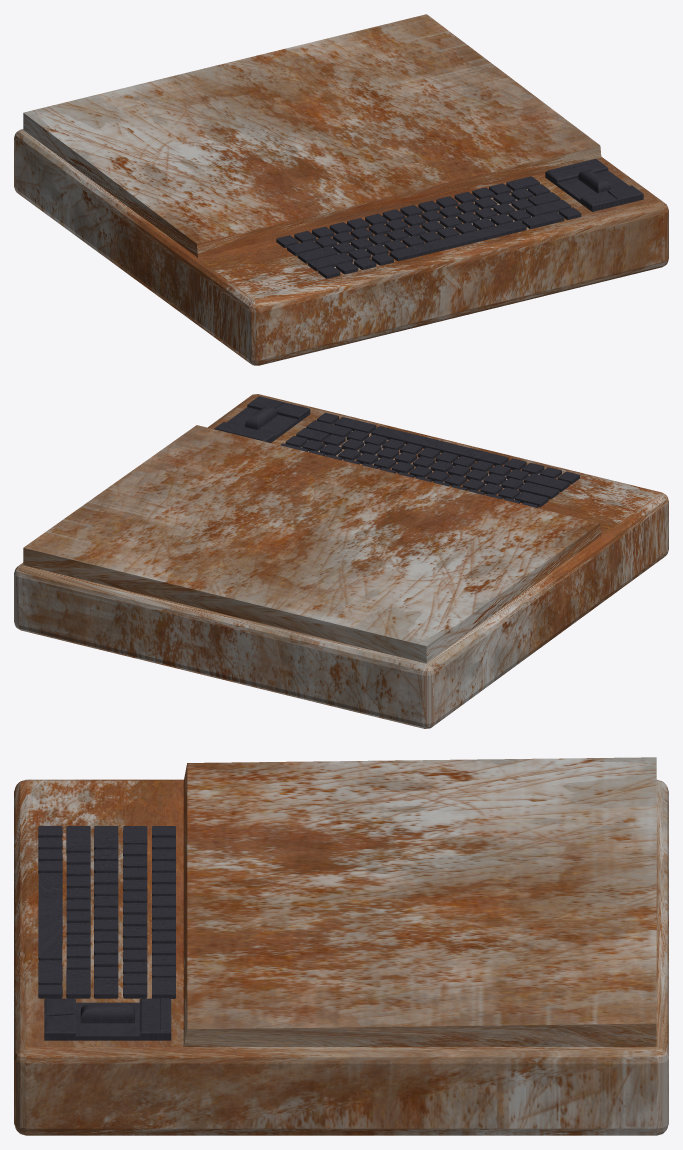
Rendered from Console-table.glb.
3 views of the same model, one above another, from view 1: azimuth 30°, elevation 25°; view 2: azimuth 150°, elevation 25°; view 3: azimuth 270°, elevation 25° (orthographic). The views are drawn at different scales.
Parts seen in each view (by area): view 1: Plane, Curve.059, Plane.001; view 2: Plane, Curve.059, Plane.001; view 3: Plane, Curve.059, Plane.001.
Boxes of the visible parts, <box> form: Plane: <box>14,14,668,365</box>; Curve.059: <box>276,176,581,278</box>; Plane.001: <box>545,159,643,211</box>; Plane: <box>14,394,668,728</box>; Curve.059: <box>280,413,579,507</box>; Plane.001: <box>214,396,310,442</box>; Plane: <box>14,757,668,1135</box>; Curve.059: <box>38,826,175,998</box>; Plane.001: <box>44,998,171,1040</box>.
Bounding box in the file's own units: 2 × 0.3738 × 2.
Materials: 2 (2 with a texture image).
